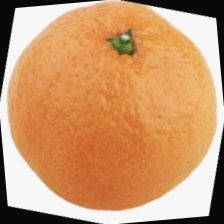orange: (40, 38, 184, 208)
